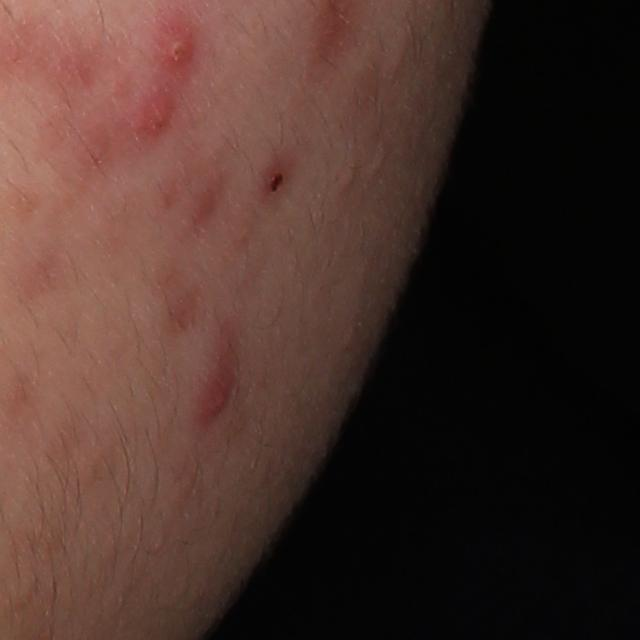papule: (202, 359, 235, 431)
